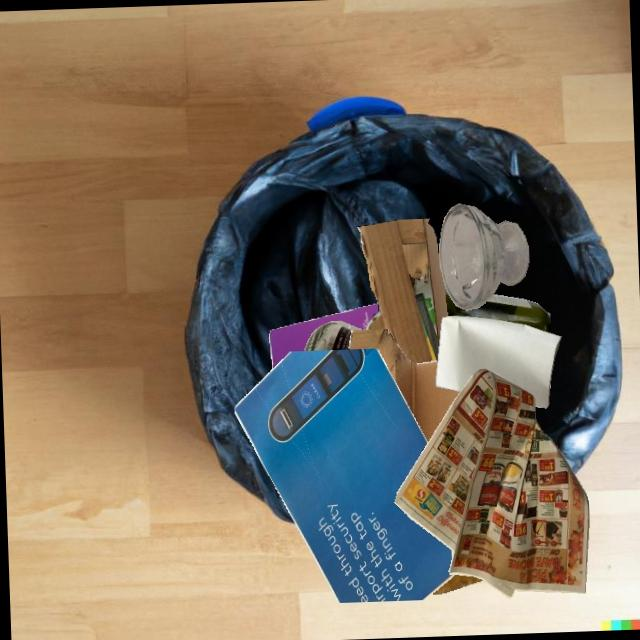biowaste: (431, 574, 483, 594)
cardboard: (357, 218, 448, 363), (348, 329, 460, 442), (269, 303, 378, 368), (444, 284, 445, 287)
glass: (439, 203, 528, 310), (444, 287, 551, 333), (304, 321, 362, 351)
paper: (234, 348, 454, 603), (394, 369, 589, 598), (435, 315, 561, 407)
